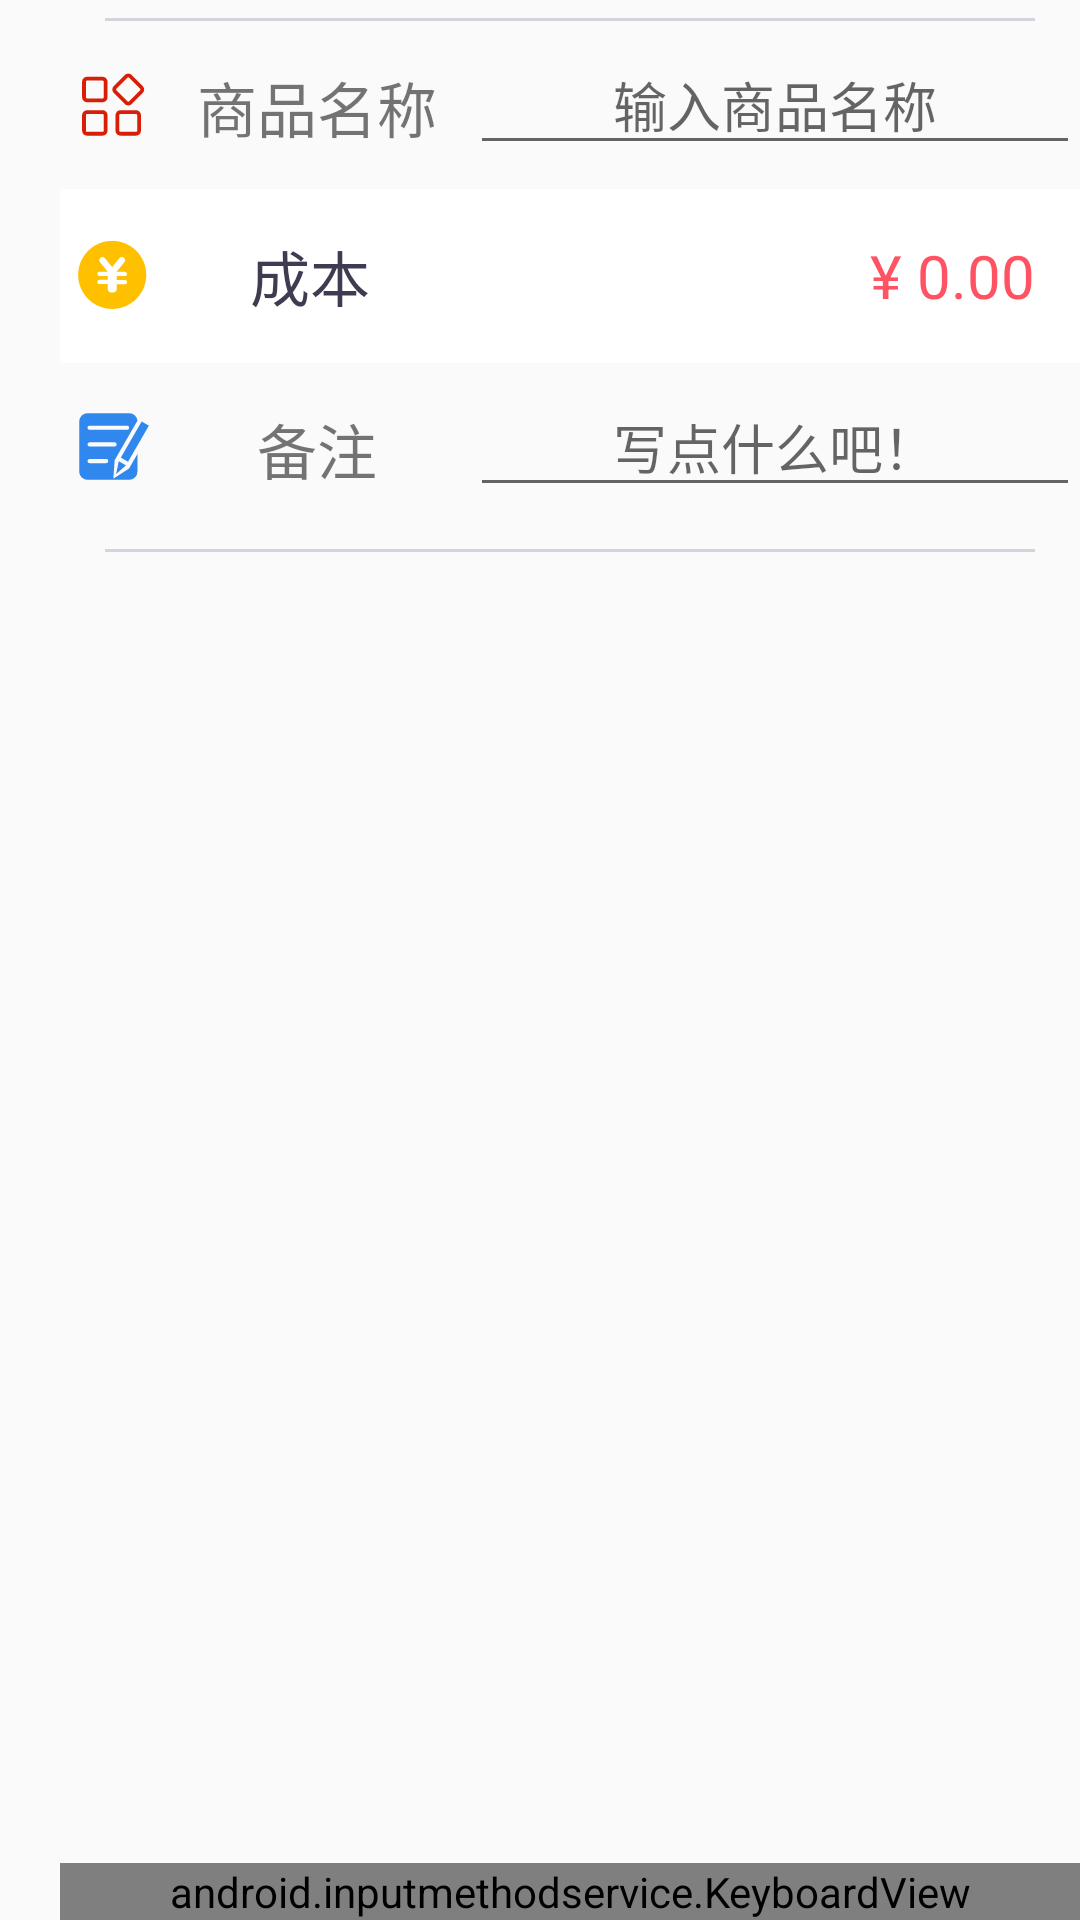

Icon click points for this 1080px x 1920px phone screenshot, format [x,y]:
category: [113,104]
note: [114,446]
price: [112,274]
